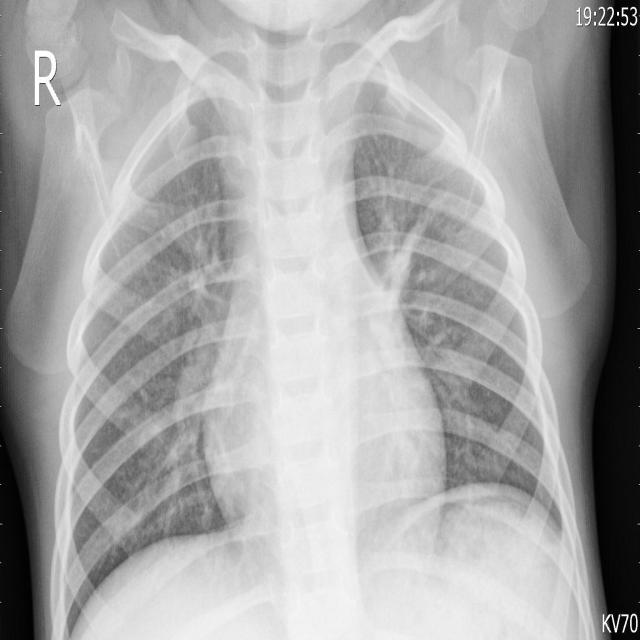low-pneumonia: (167, 234, 237, 466), (377, 173, 442, 327)
